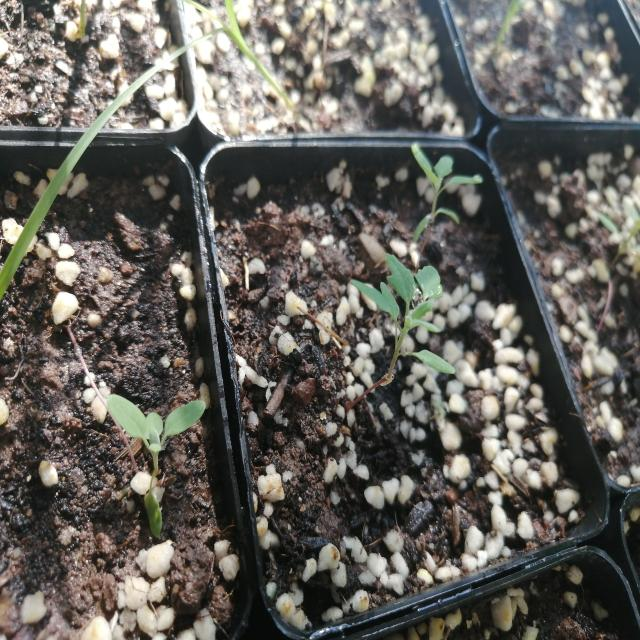goosefoots: (337, 242, 467, 404), (100, 380, 216, 492), (380, 143, 496, 255)
